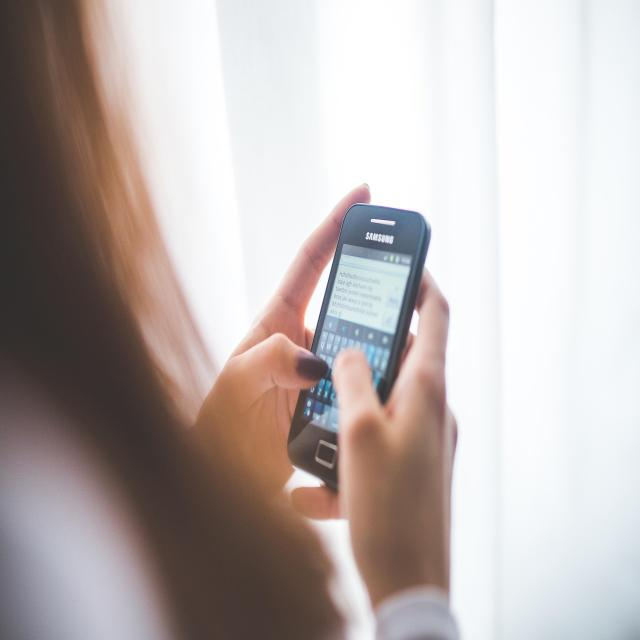Mobile: (286, 191, 434, 506)
